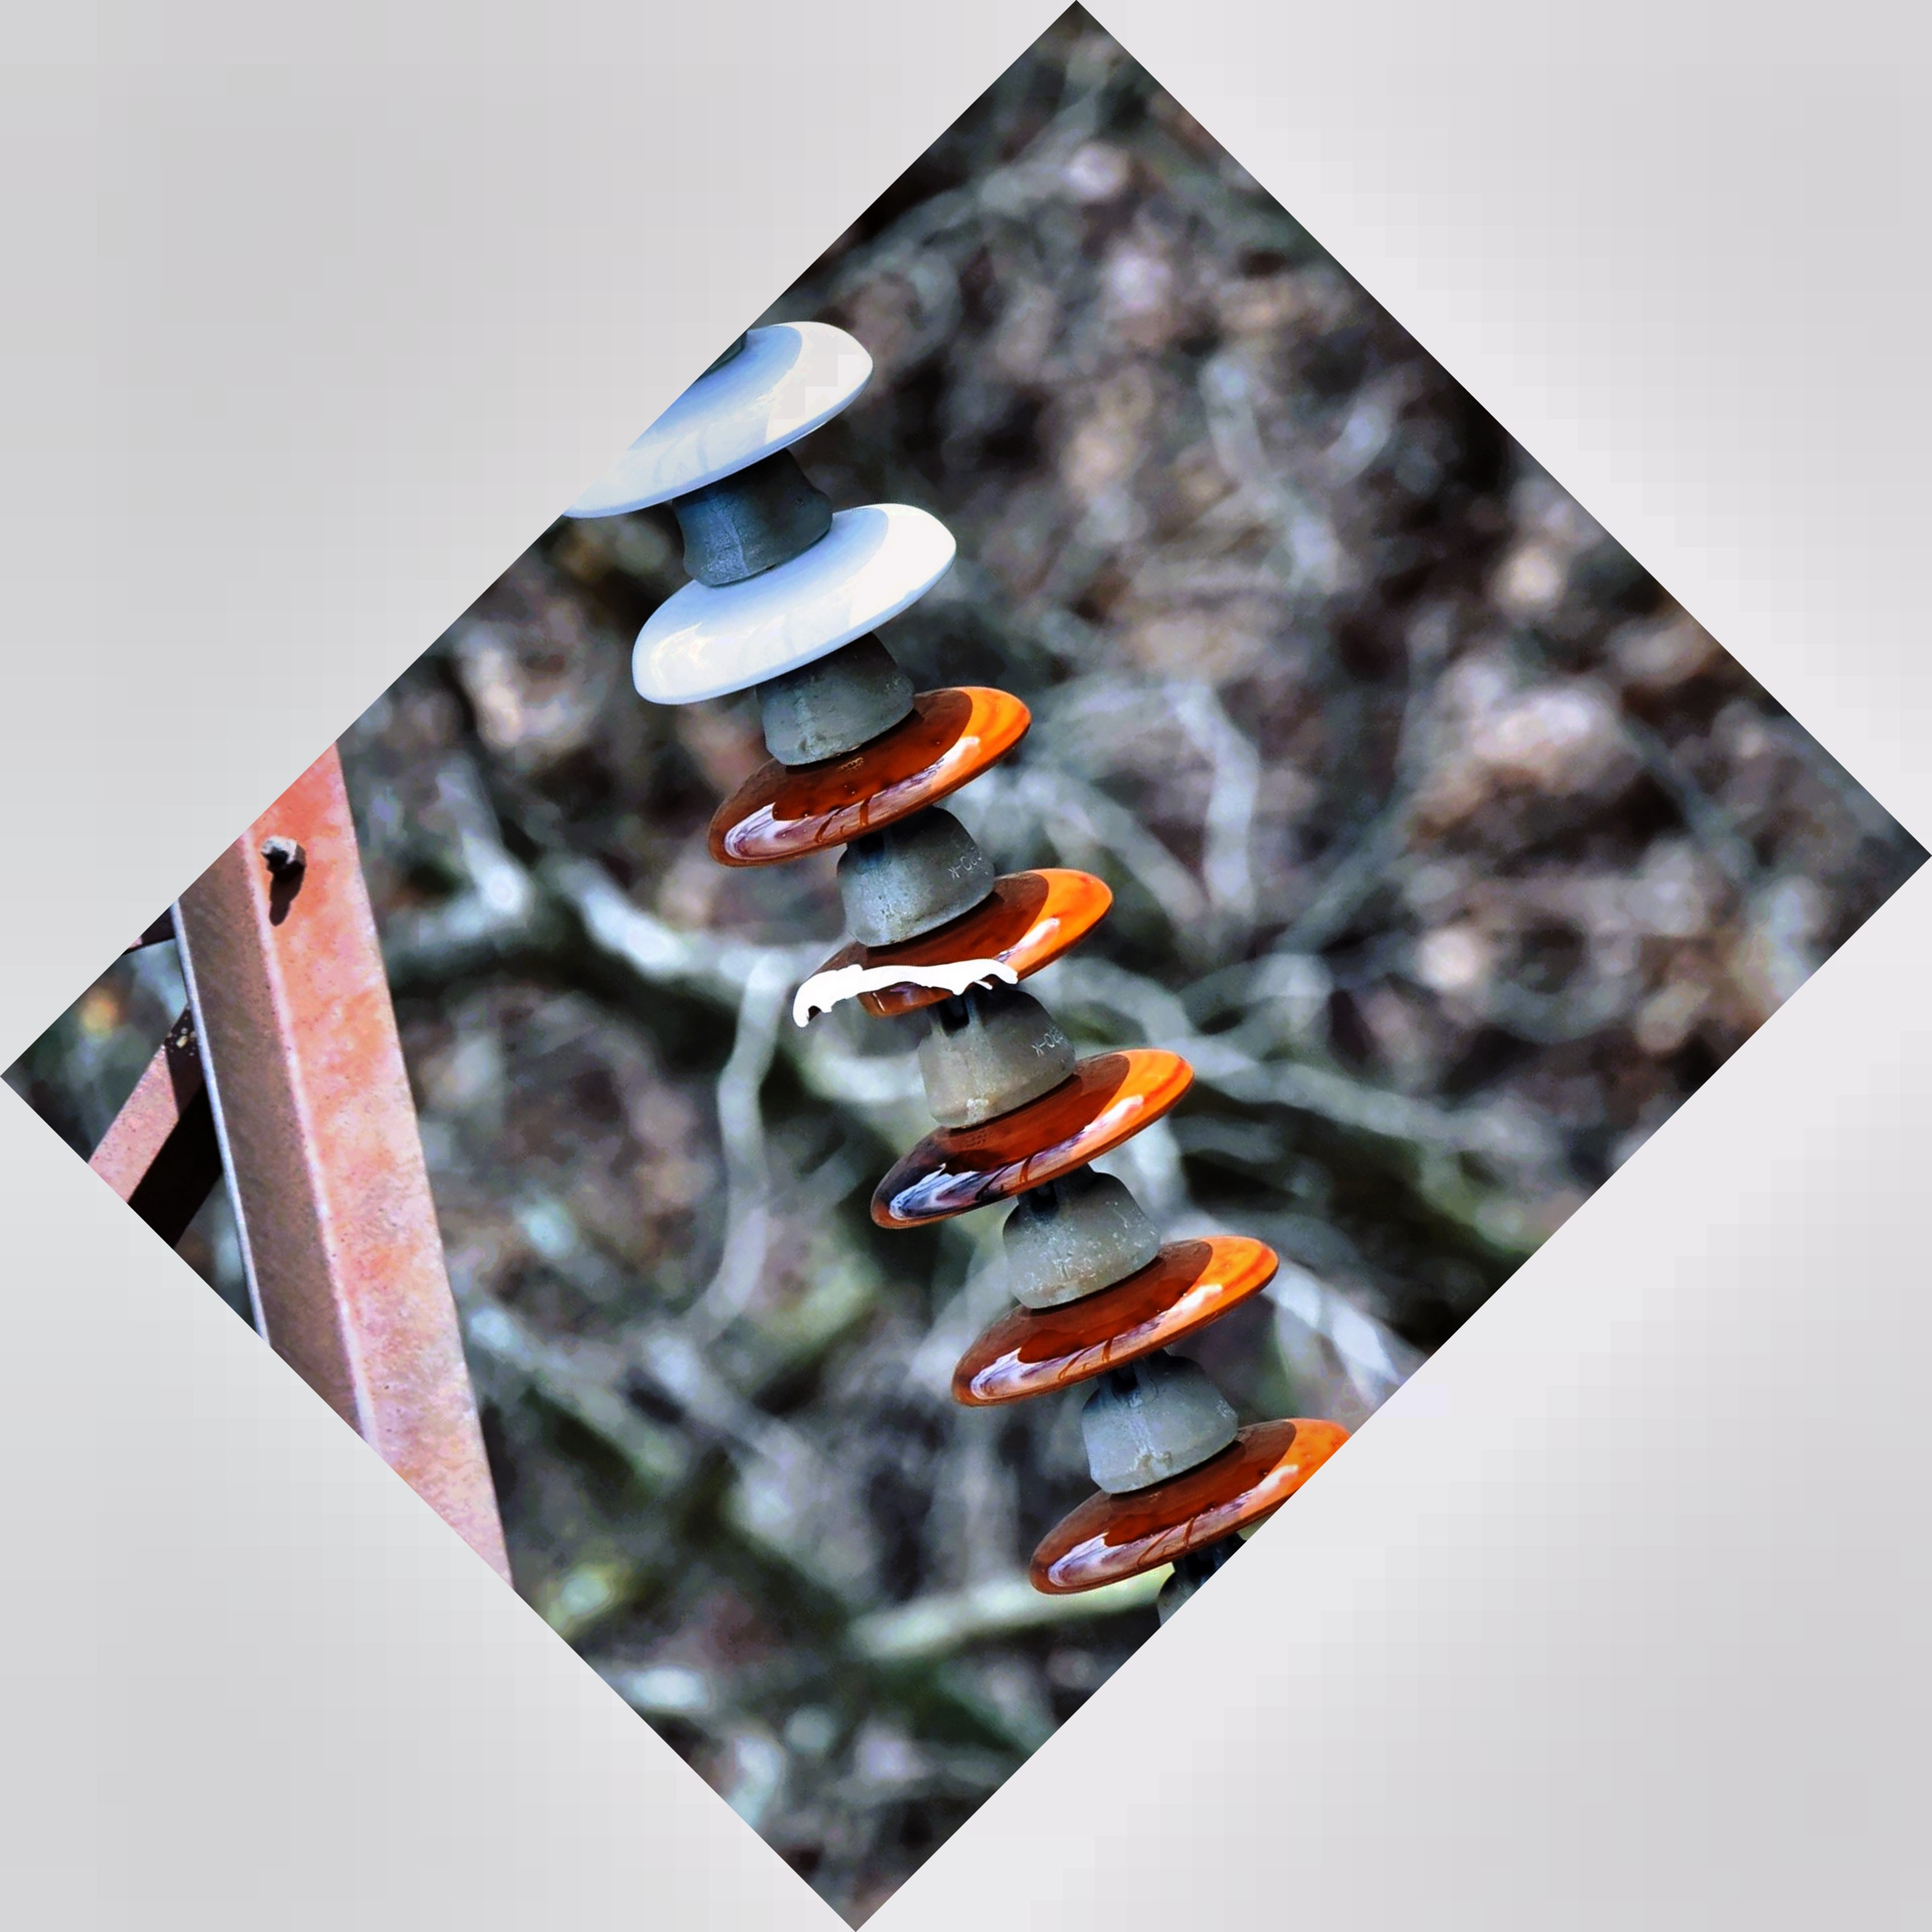insulator breakage: (771, 865, 1132, 1037)
